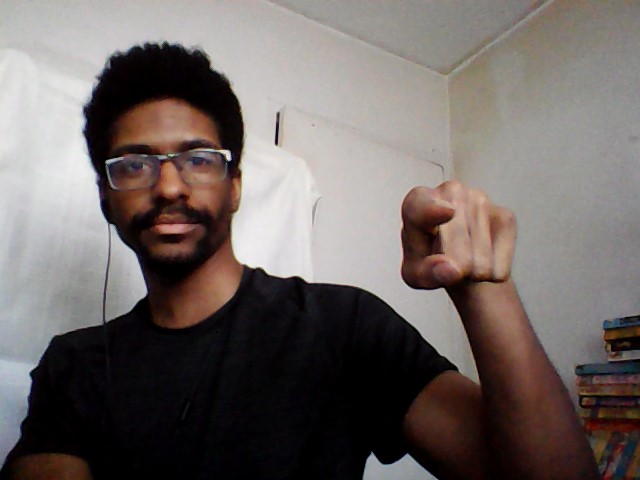z: (398, 176, 524, 292)
